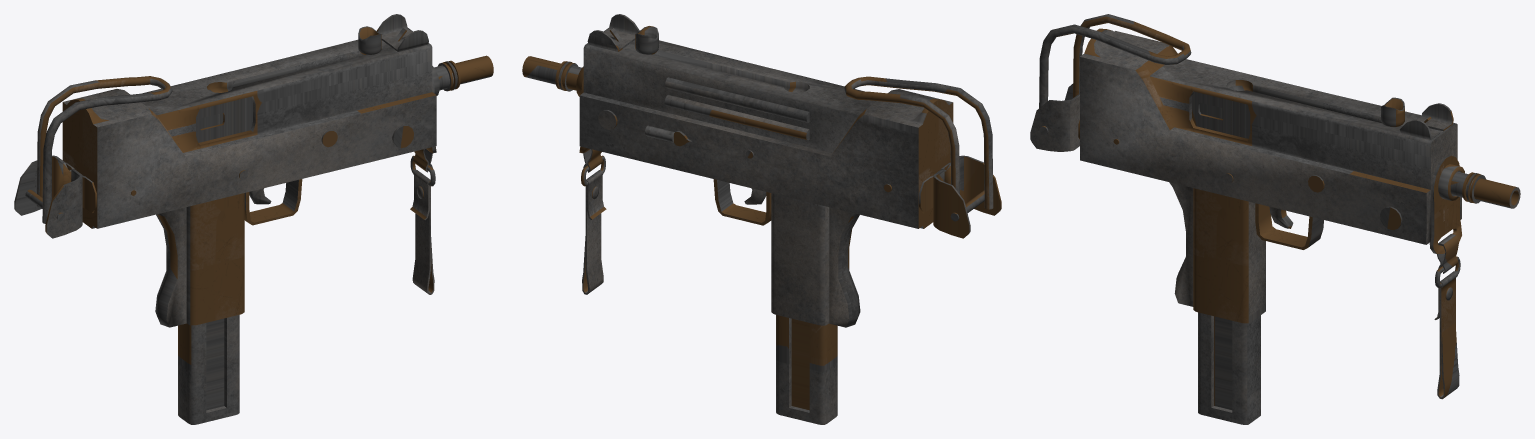
File: MAC-10.fbx
The picture shows the model from 3 angles, left to right: view 1: azimuth 30°, elevation 25°; view 2: azimuth 150°, elevation 25°; view 3: azimuth 330°, elevation 25°; orthographic projection. The views are drawn at different scales.
Parts seen in each view (by area): view 1: Куб.003, Куб.001, Куб.025, Куб.004; view 2: Куб.003, Куб.001, Куб.025, Куб.004; view 3: Куб.003, Куб.001, Куб.025, Куб.004.
Part boxes in pixels (x1,y1,x2,y2): Куб.003: (14, 14, 493, 327); Куб.001: (178, 314, 239, 424); Куб.025: (36, 76, 172, 223); Куб.004: (358, 26, 381, 54); Куб.003: (522, 14, 1001, 327); Куб.001: (776, 315, 837, 424); Куб.025: (844, 76, 993, 209); Куб.004: (635, 26, 658, 54); Куб.003: (1030, 28, 1520, 399); Куб.001: (1198, 312, 1260, 424); Куб.025: (1039, 14, 1191, 107); Куб.004: (1381, 97, 1404, 126).
Size of the model in its own units: 1225 by 904 by 180.
